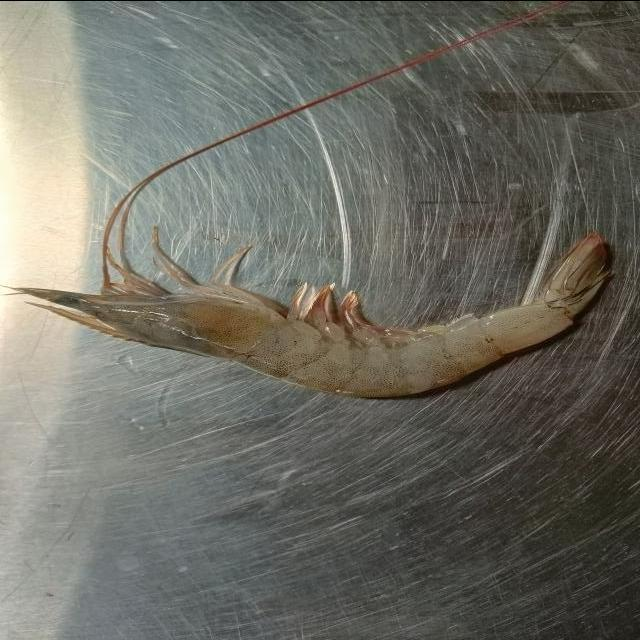shrimp: (6, 233, 615, 400)
